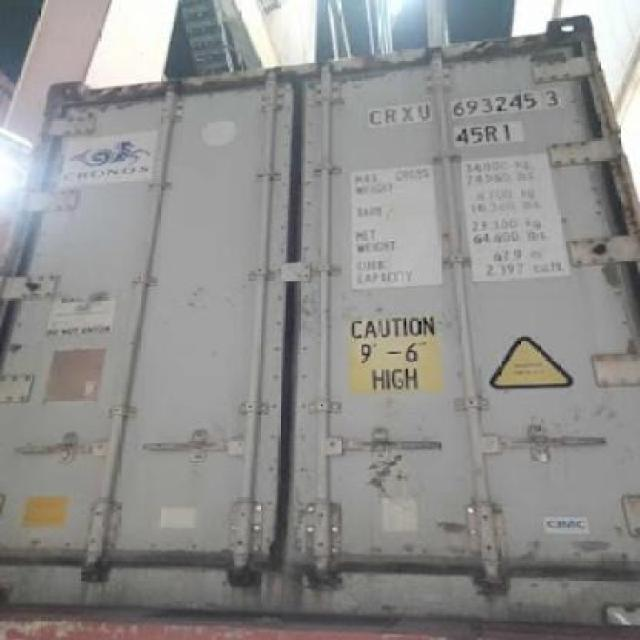ISO: (457, 124, 518, 144)
container_number: (367, 92, 569, 118)
